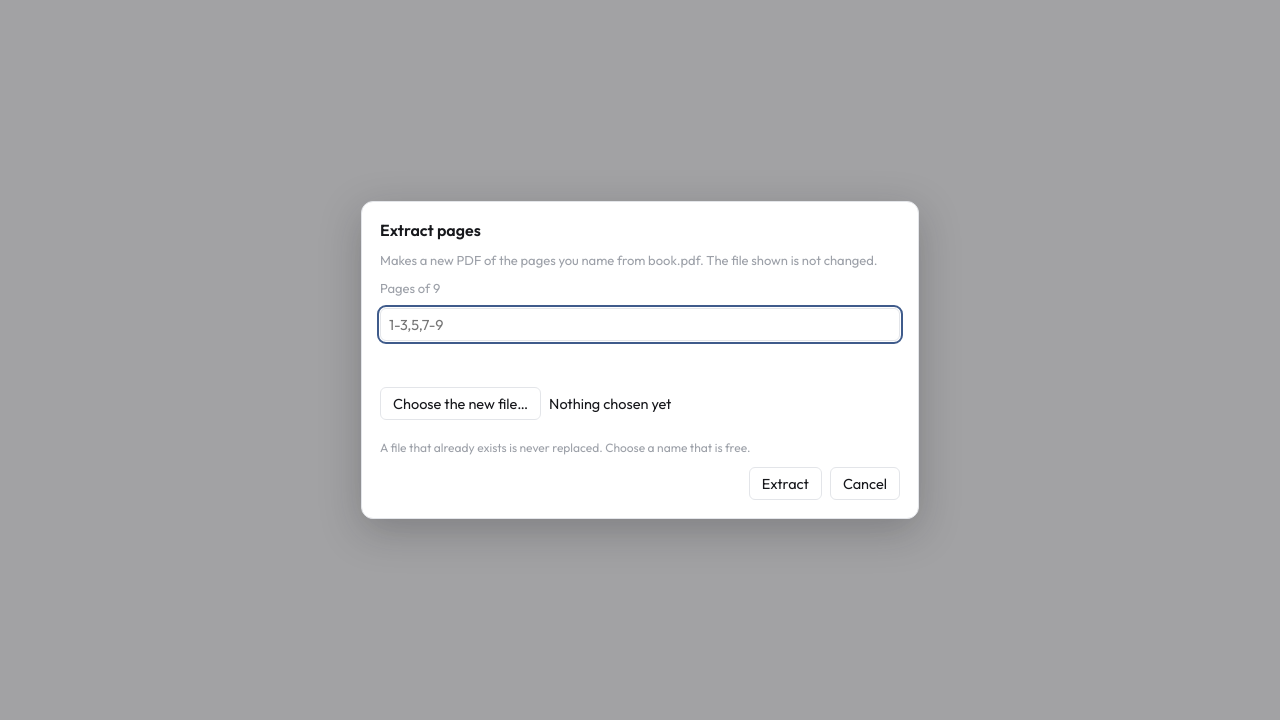
extract_writes_the_named_pages_in_the_order_given_to_the_file_chosen
Type "5, 1-3" into the field labelled "Pages of 9" at (640, 324), box [380,308,900,341]
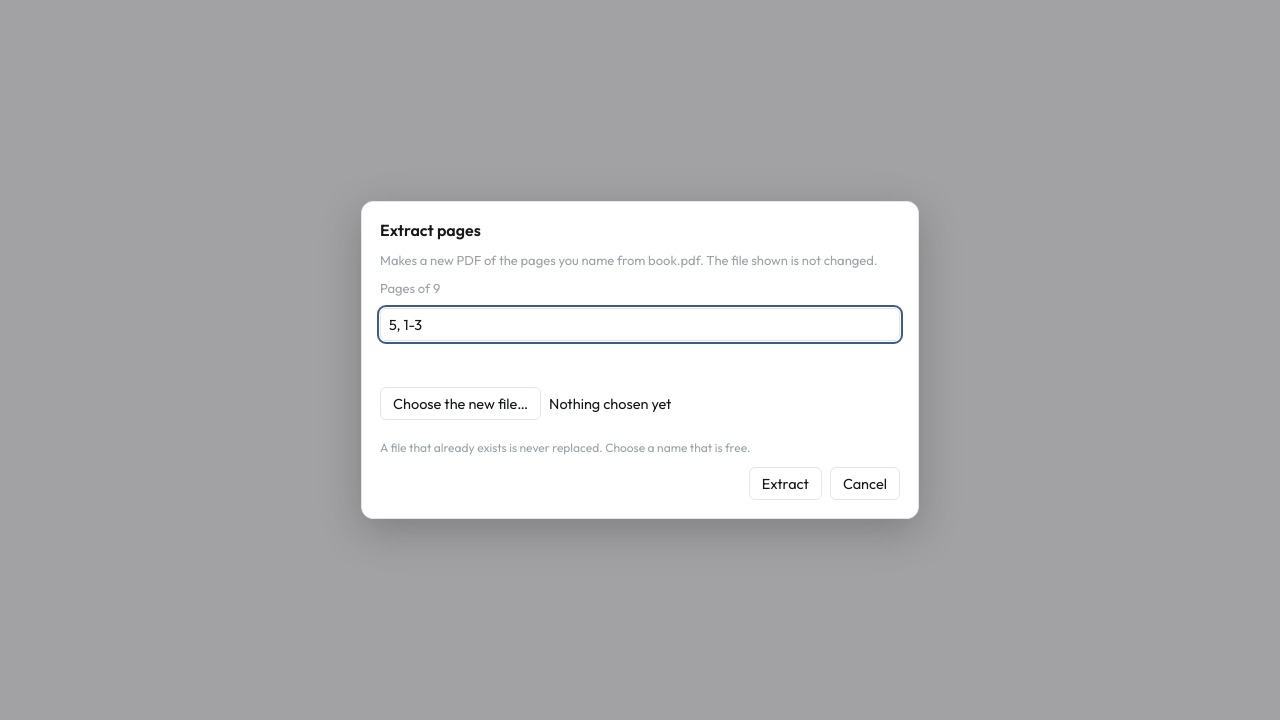
Expected: the button "Extract" is disabled, [749,467,822,500]
Click the button "Choose the new file…" at (461, 404), box [380,387,541,420]
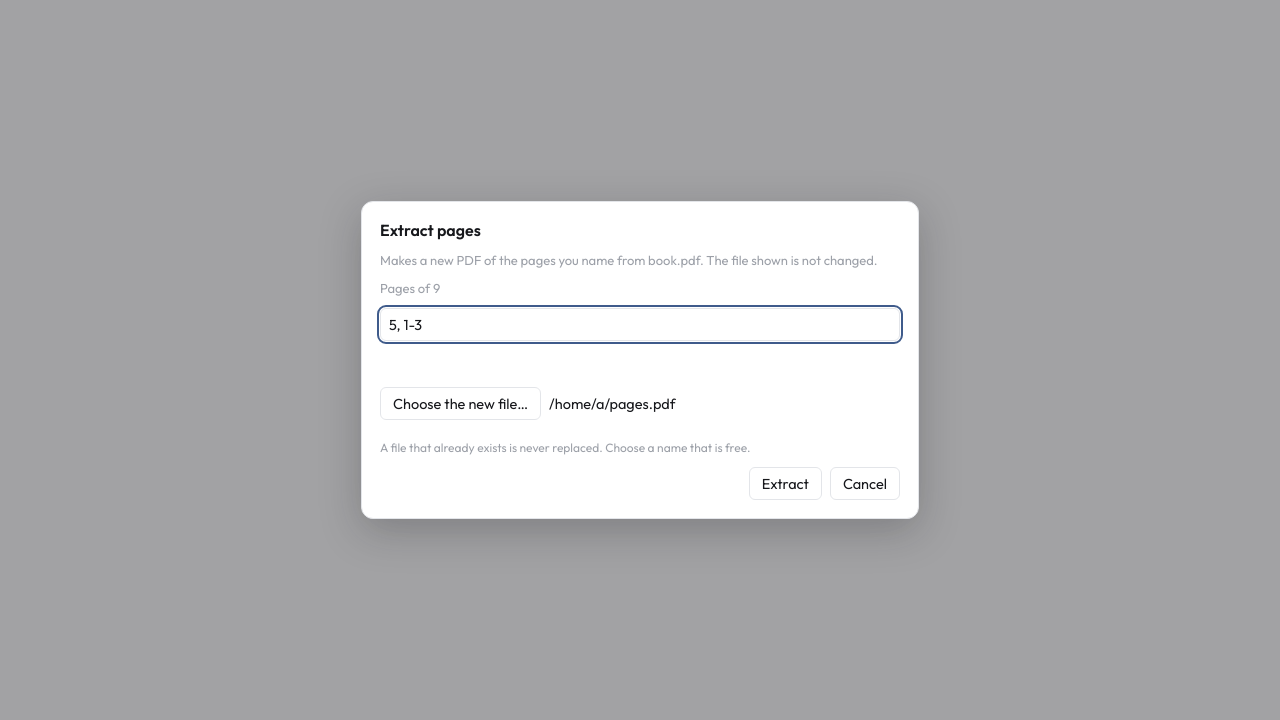
Now the text with test id "pdf-job-target" no longer shows "Nothing", box [549,394,676,413]
Click the button "Extract" at (785, 484), box [749,467,822,500]
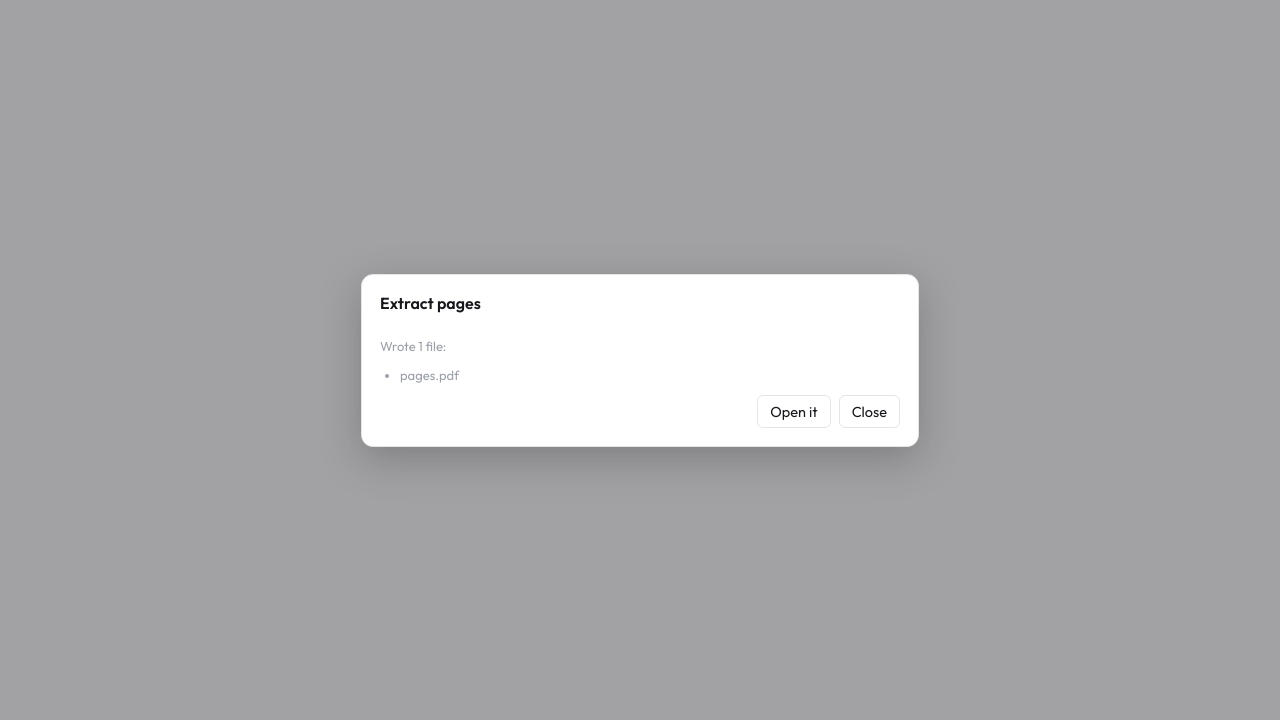
Now the message "Wrote 1 file: pages.pdf" is shown, box [380,338,459,382]
Now the message with test id "pdf-job-done" shows "pages.pdf", box [400,366,459,382]
